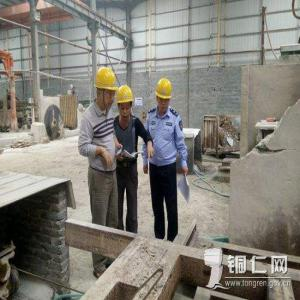yellow: (97, 69, 117, 109), (117, 85, 134, 121), (156, 79, 174, 112)
